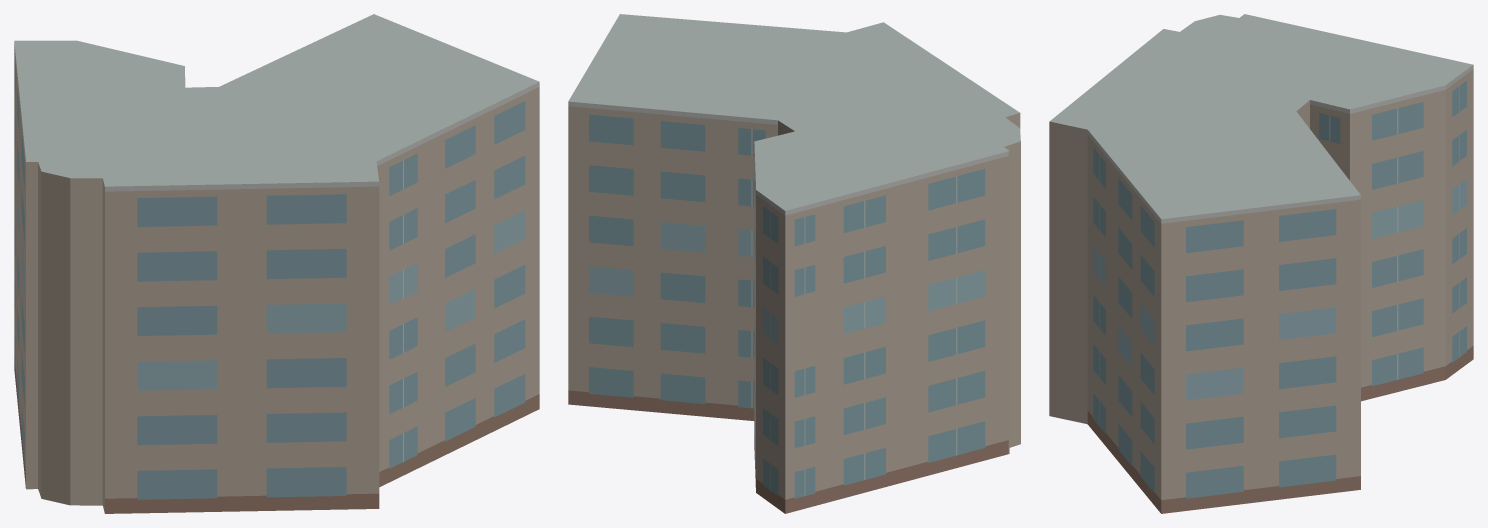
The model's file is survey-upis-32681167.glb.
The picture shows the model from 3 angles, left to right: view 1: azimuth 30°, elevation 25°; view 2: azimuth 150°, elevation 25°; view 3: azimuth 270°, elevation 25°; orthographic projection. The views are drawn at different scales.
Parts seen in each view (by area): view 1: survey-upis-32681167.tmp; view 2: survey-upis-32681167.tmp; view 3: survey-upis-32681167.tmp.
Boxes of the visible parts, x1=… form: survey-upis-32681167.tmp: x1=14, y1=14, x2=539, y2=513; survey-upis-32681167.tmp: x1=568, y1=14, x2=1020, y2=513; survey-upis-32681167.tmp: x1=1049, y1=14, x2=1473, y2=513.
Size of the model in its own units: 23.85 by 15.95 by 20.82.
